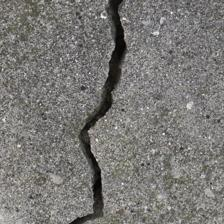Crack: (37, 2, 96, 218)
